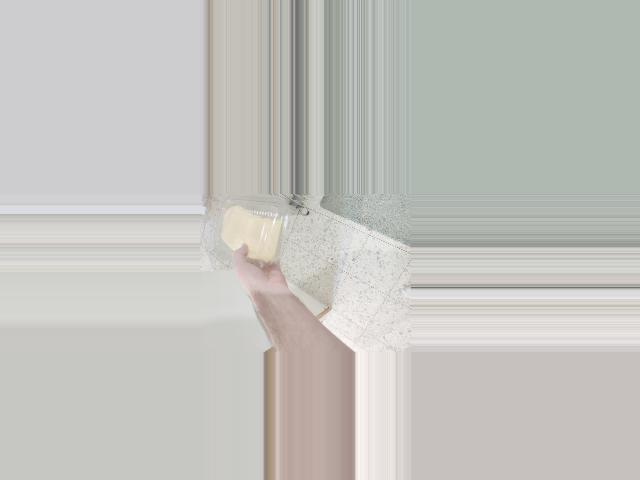cheese: (218, 200, 288, 264)
